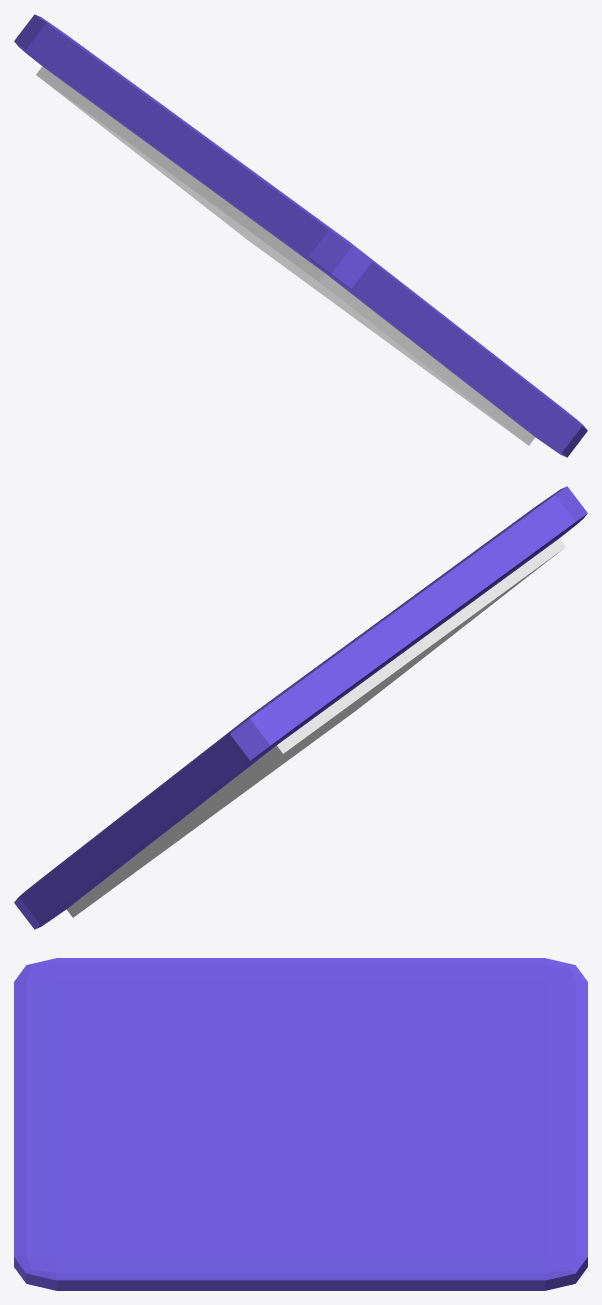
File: scene6_phone.glb
The picture shows the model from 3 angles, top to bottom: view 1: azimuth 30°, elevation 25°; view 2: azimuth 150°, elevation 25°; view 3: azimuth 270°, elevation 25°; orthographic projection. The views are drawn at different scales.
Visible parts, largest first — view 1: PHONE; view 2: PHONE; view 3: PHONE.
Part boxes in pixels (<box>): PHONE: <box>14,14,587,457</box>; PHONE: <box>14,486,587,929</box>; PHONE: <box>14,958,587,1290</box>.
Bounding box in the file's own units: 0.2323 × 0.2281 × 0.5.
